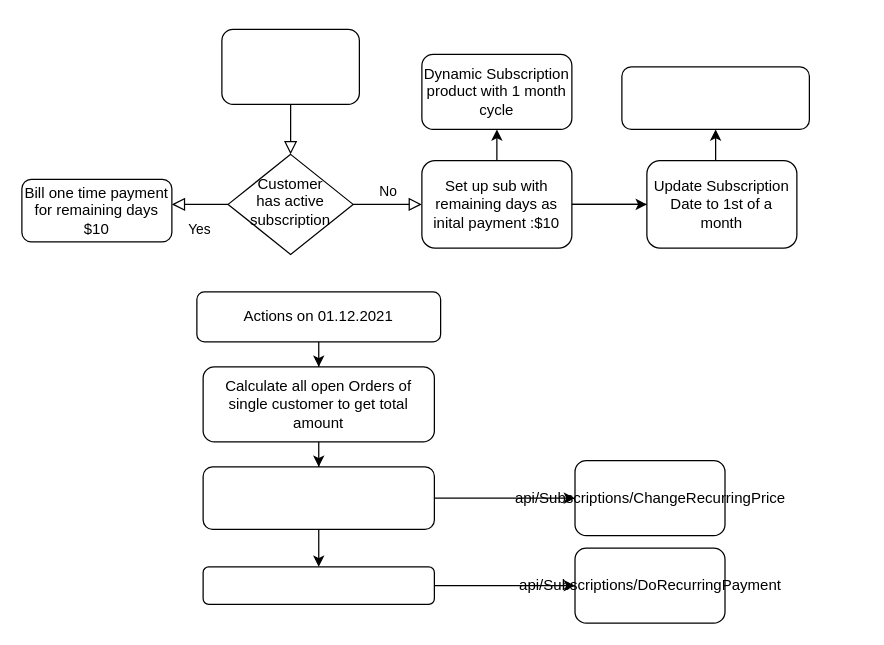
Image size: 884x645. Some labels were removed from this diagram. The shapes that lost their labels are listed below. From the top down, each one's centre as x and y in pixels, then its label:
At (x=290, y=66): "Checkout at 20.11.2021 Product $30 / Month".
At (x=715, y=97): "api/Subscriptions/ChangeNextPaymentDate".
At (x=318, y=497): "Update subscription price to total amount".
At (x=318, y=585): "Initiate the subcription payment".
